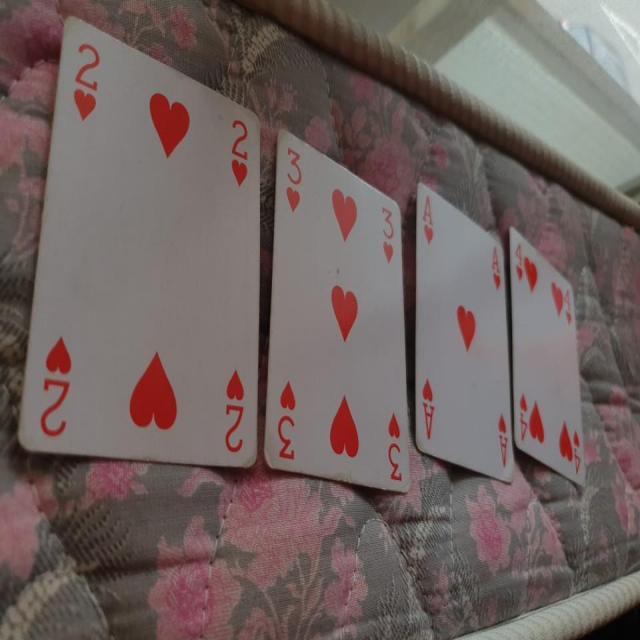2 Hearts: (19, 9, 264, 476)
3 Hearts: (260, 124, 407, 484)
4 Hearts: (510, 225, 593, 498)
A Hearts: (408, 174, 517, 489)
